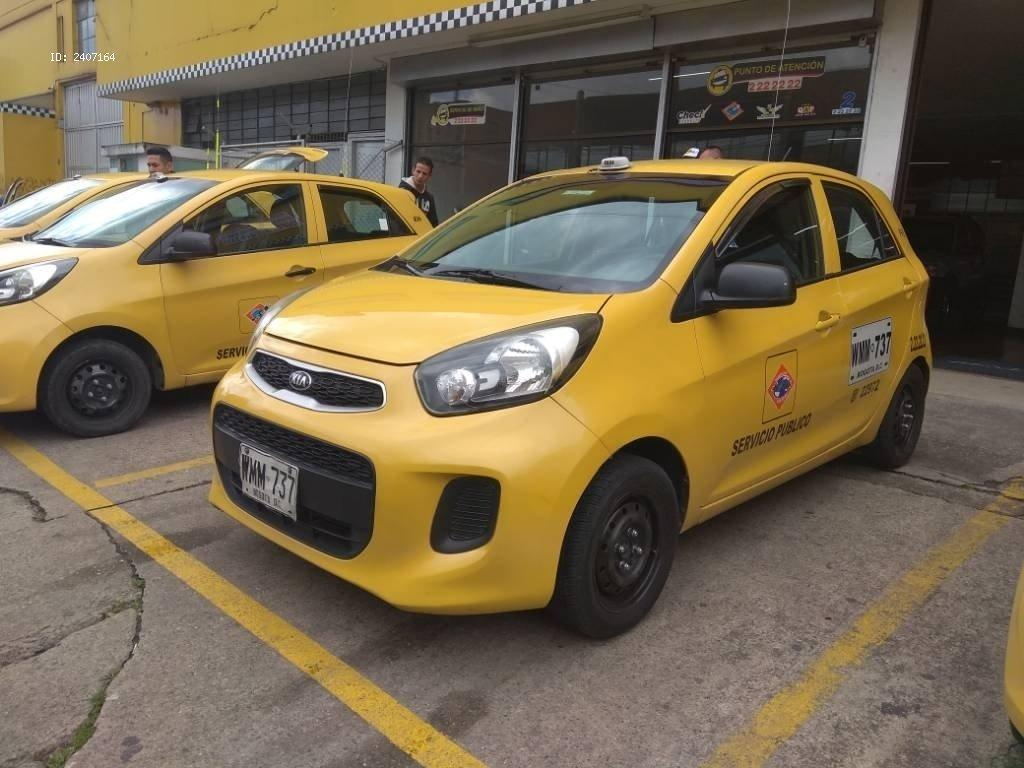taxi: (230, 124, 970, 661)
